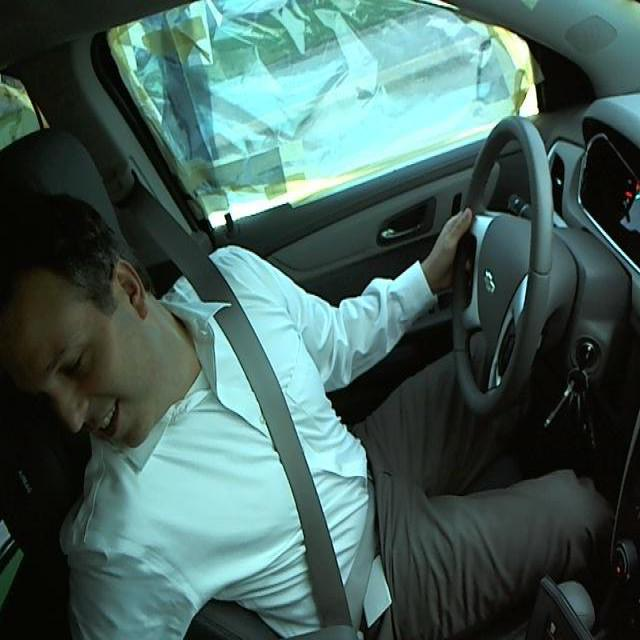seatbelt: (191, 280, 382, 620)
